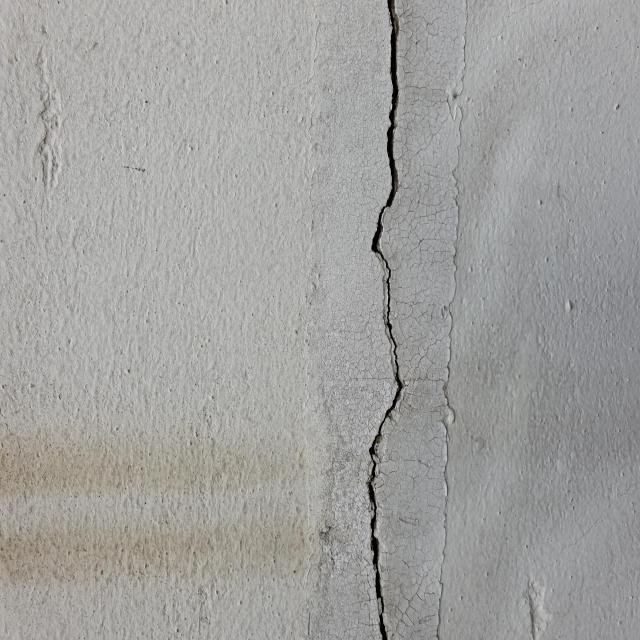SurfaceCrack: (318, 1, 447, 640)
